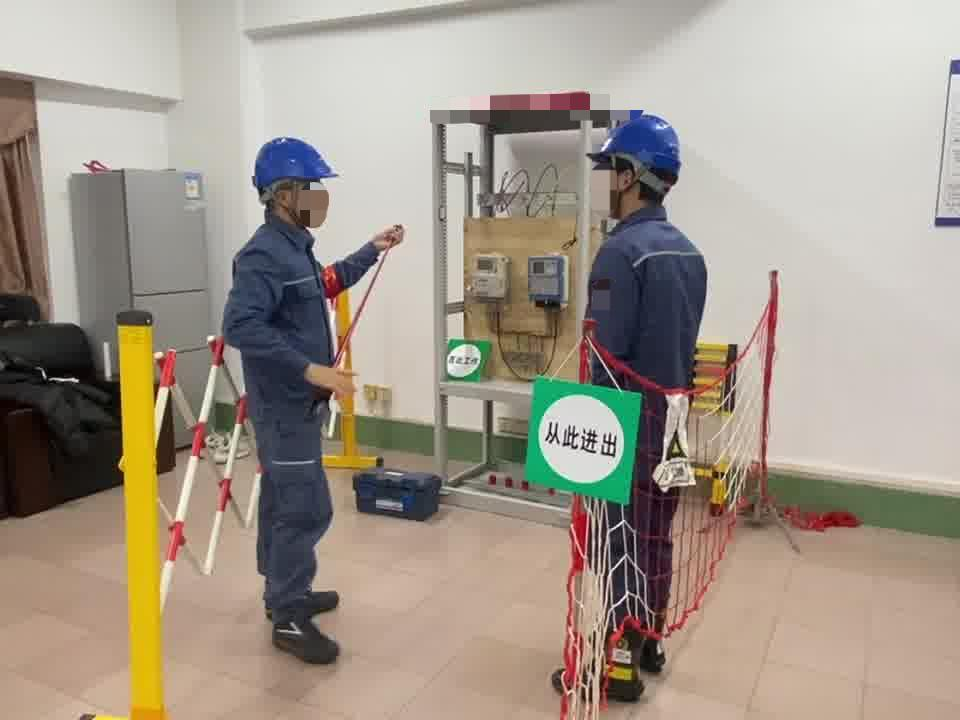halt: (593, 116, 686, 219), (254, 139, 339, 231)
inear: (612, 158, 646, 209), (267, 183, 305, 220)
